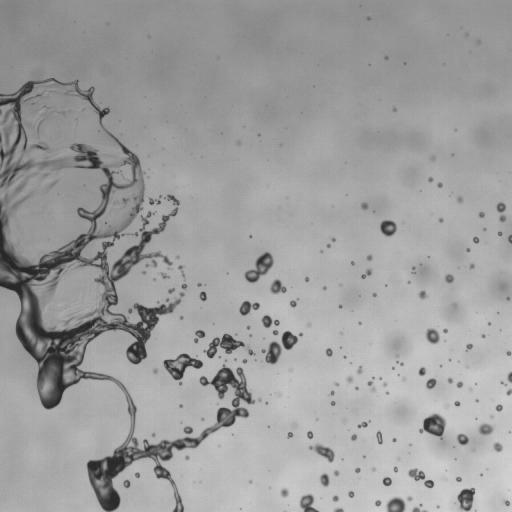droplet: (162, 353, 203, 384), (419, 413, 446, 439), (457, 488, 475, 511), (386, 496, 412, 511), (299, 494, 318, 511), (239, 301, 259, 315), (380, 220, 396, 236), (270, 279, 286, 294), (425, 328, 439, 344), (261, 315, 279, 327), (478, 423, 493, 435), (456, 433, 468, 445), (194, 330, 205, 343), (426, 378, 437, 389), (148, 196, 161, 205), (320, 473, 329, 486), (492, 442, 502, 452), (418, 290, 427, 299), (382, 477, 391, 486), (445, 274, 453, 283), (280, 488, 288, 497), (199, 291, 206, 301), (290, 299, 297, 307), (325, 348, 332, 356), (418, 367, 425, 375), (361, 202, 368, 209), (346, 375, 353, 382), (123, 480, 130, 487), (357, 365, 362, 374), (457, 196, 463, 203), (466, 343, 472, 350), (496, 404, 502, 411), (307, 431, 313, 438), (350, 434, 357, 440), (374, 500, 381, 506), (35, 93, 43, 98), (160, 273, 168, 278), (473, 237, 479, 243), (456, 381, 462, 387), (333, 470, 339, 476), (348, 491, 354, 497), (332, 495, 338, 501), (506, 388, 511, 395), (478, 212, 484, 217), (366, 255, 372, 260), (168, 288, 174, 293), (454, 401, 460, 406), (287, 432, 292, 438), (428, 177, 433, 182), (437, 182, 442, 187), (273, 330, 278, 335), (447, 378, 452, 383), (355, 468, 360, 473), (504, 500, 509, 505), (438, 218, 443, 222), (443, 328, 447, 333), (242, 359, 247, 363), (153, 368, 157, 373), (501, 381, 506, 385), (382, 382, 387, 386), (329, 391, 334, 395), (393, 467, 397, 472), (135, 472, 139, 477), (456, 477, 461, 481), (237, 141, 241, 145), (133, 232, 137, 236), (331, 237, 335, 241), (470, 264, 474, 268), (305, 277, 309, 281), (307, 323, 311, 327), (246, 325, 250, 329), (481, 334, 485, 338), (507, 351, 511, 355), (334, 382, 338, 386), (331, 401, 335, 405), (444, 404, 448, 408), (392, 438, 396, 442), (185, 455, 189, 459), (293, 423, 296, 428), (60, 111, 64, 114), (431, 157, 435, 160), (466, 248, 470, 251), (175, 256, 179, 259), (372, 293, 376, 296), (399, 362, 403, 365), (402, 377, 405, 381), (372, 467, 375, 471), (367, 16, 370, 19), (393, 108, 396, 111), (498, 232, 501, 235), (327, 244, 330, 247), (351, 261, 354, 264), (323, 286, 326, 289), (339, 305, 342, 308), (180, 316, 183, 319), (277, 392, 280, 395), (152, 433, 155, 436), (477, 41, 480, 43), (385, 56, 387, 59), (483, 228, 486, 230), (143, 271, 145, 274), (198, 283, 200, 286), (506, 297, 509, 299), (358, 322, 361, 324), (355, 387, 358, 389), (258, 399, 261, 401), (475, 399, 478, 401), (201, 418, 204, 420), (249, 480, 251, 483), (43, 113, 45, 115), (453, 303, 455, 305), (386, 392, 388, 394), (180, 405, 182, 407)
ligament: (0, 86, 255, 511), (261, 331, 302, 364), (204, 333, 254, 358), (244, 252, 273, 283), (408, 468, 434, 488), (309, 443, 334, 462), (496, 202, 506, 221), (45, 179, 57, 192), (361, 268, 372, 278), (178, 265, 185, 279), (35, 120, 43, 132), (367, 379, 375, 391), (411, 505, 427, 511), (376, 431, 382, 444), (357, 422, 368, 428), (507, 371, 511, 383), (333, 507, 343, 511), (508, 234, 511, 243), (412, 267, 414, 272), (0, 110, 1, 113)
